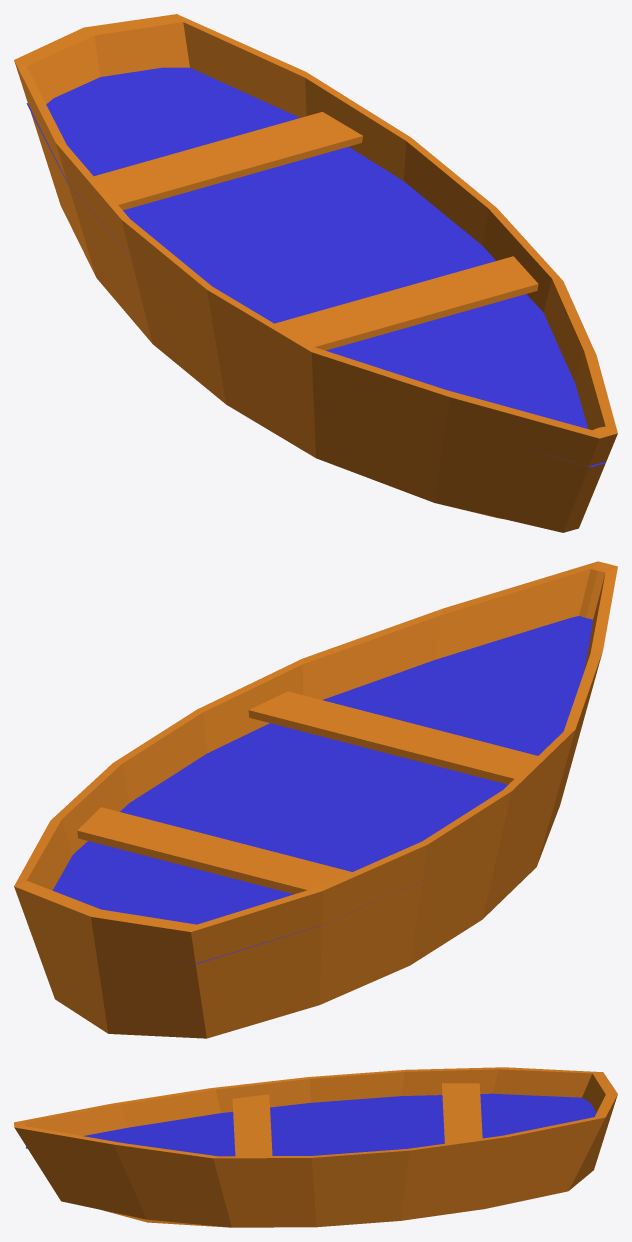
File: boat_v3.fbx
3 renders of one model, top to bottom at view 1: azimuth 30°, elevation 25°; view 2: azimuth 150°, elevation 25°; view 3: azimuth 270°, elevation 25°, orthographic. The views are drawn at different scales.
Visible parts, largest first — view 1: boat; view 2: boat; view 3: boat.
Boxes of the visible parts, x1,y1,x2,y2 form: boat: (14,14,617,532); boat: (14,561,617,1038); boat: (14,1067,617,1227).
Bounding box in the file's own units: 496 × 332 × 1466.
